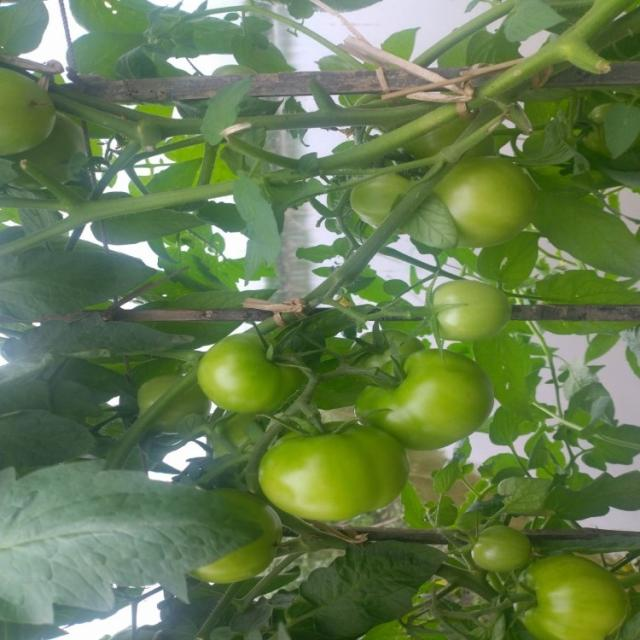tomato: (356, 339, 478, 456), (256, 425, 403, 521), (433, 145, 541, 260), (508, 553, 635, 640), (194, 331, 294, 413), (423, 277, 510, 345), (1, 61, 55, 161), (347, 155, 407, 229), (218, 527, 281, 585), (465, 519, 530, 573), (141, 370, 189, 420)
